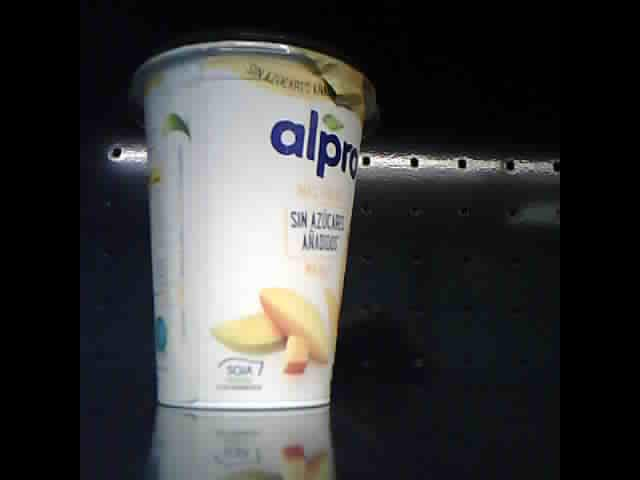alpro: (131, 25, 381, 414)
